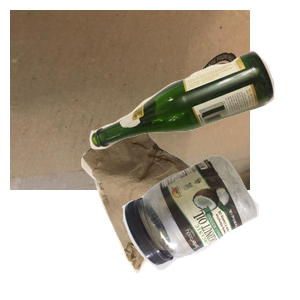cardboard: (10, 10, 250, 190)
glass: (87, 48, 300, 190)
plastic: (120, 152, 300, 300)
trash: (79, 123, 281, 300)
